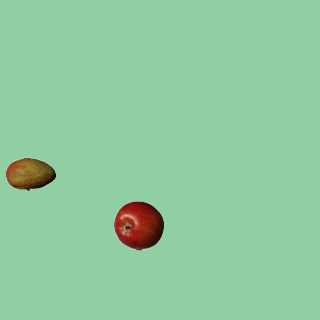Apple Braeburn: (113, 200, 163, 250)
Papaya: (5, 149, 55, 199)
